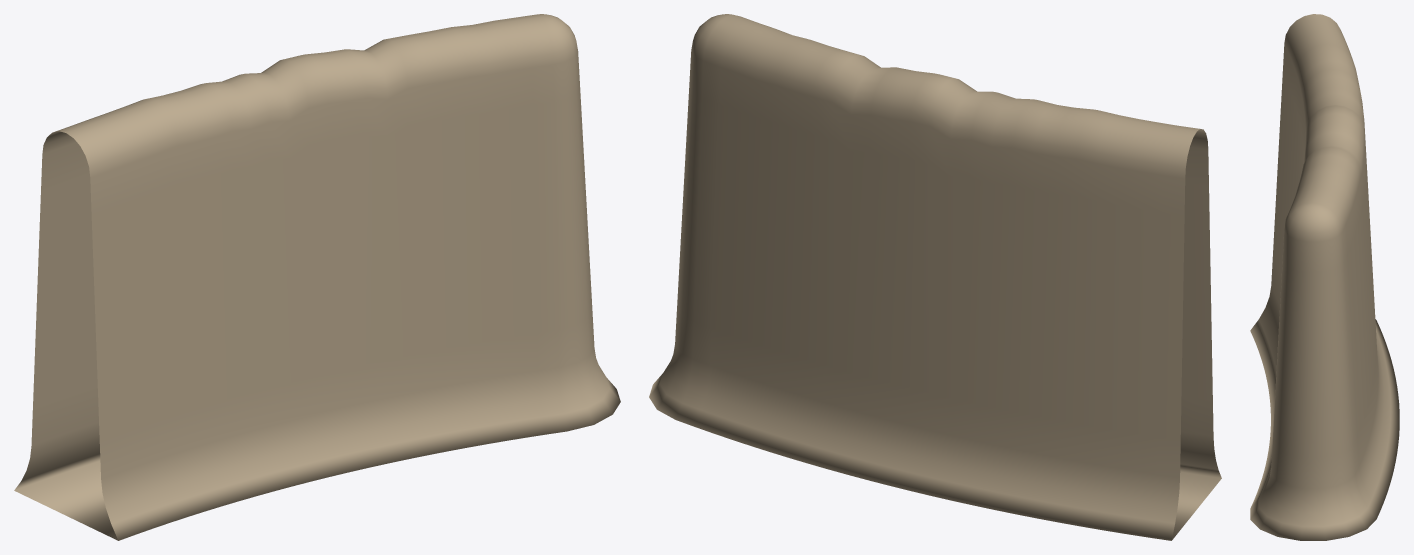
File: KFB_Wall_curved_ring_r3_capA.r1.glb
3 renders of one model, left to right at view 1: azimuth 30°, elevation 25°; view 2: azimuth 150°, elevation 25°; view 3: azimuth 270°, elevation 25°, orthographic. The views are drawn at different scales.
Parts seen in each view (by area): view 1: KFB_Wall_curved_ring_r3_capA; view 2: KFB_Wall_curved_ring_r3_capA; view 3: KFB_Wall_curved_ring_r3_capA.
Part boxes in pixels (x1,y1,x2,y2): KFB_Wall_curved_ring_r3_capA: (14, 14, 620, 540); KFB_Wall_curved_ring_r3_capA: (649, 14, 1221, 540); KFB_Wall_curved_ring_r3_capA: (1250, 14, 1399, 540).
Size of the model in its own units: 5.48 by 3.63 by 1.57.
